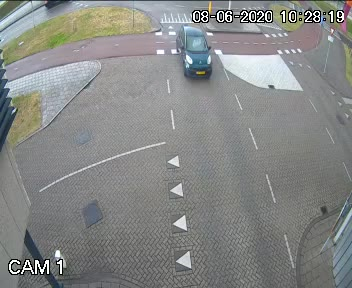car: (170, 14, 224, 102)
